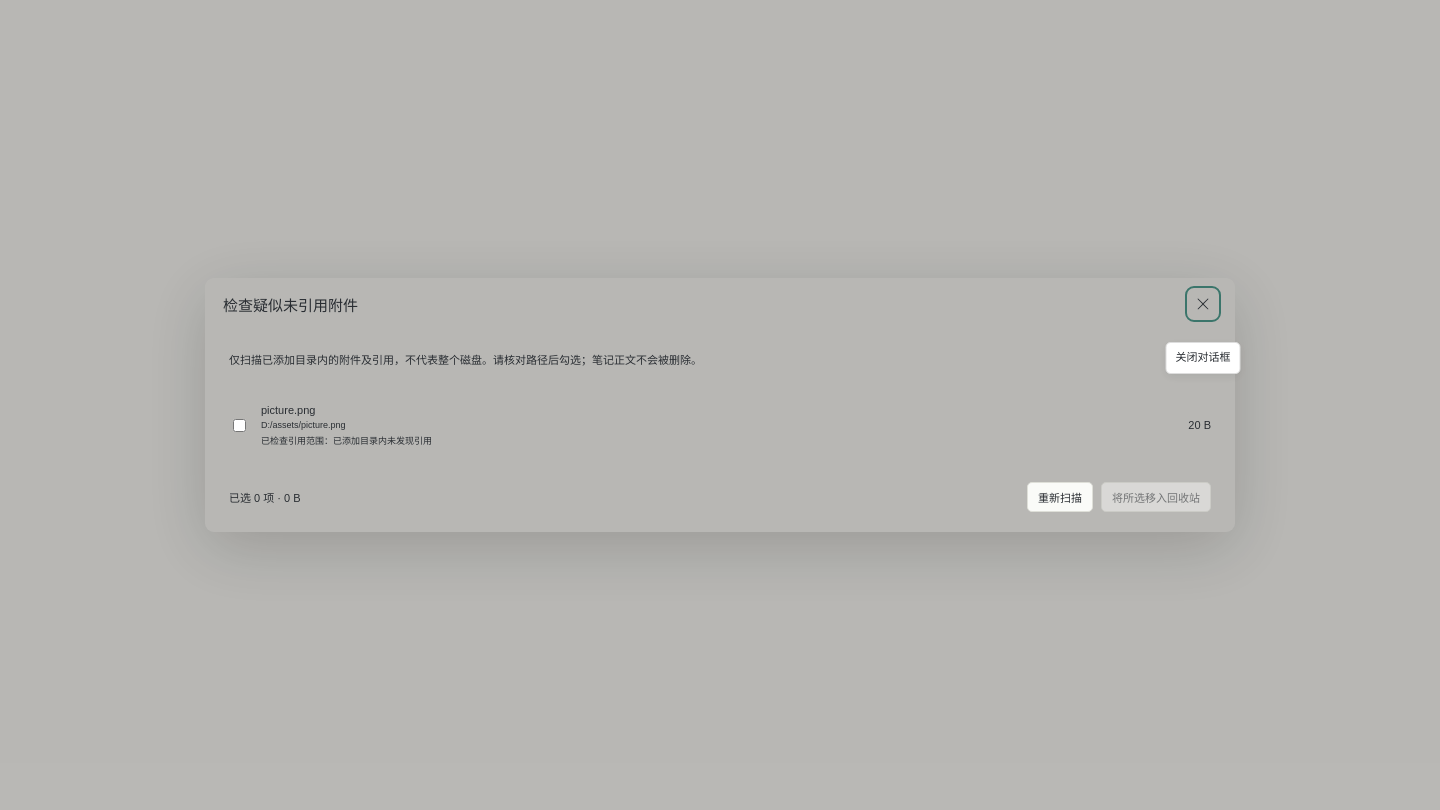
it: modal operations in progress › protects attachment removal from Escape and backdrop while the local removal is pending
Click the checkbox labelled "picture.png D:/assets/picture.png 已检查引用范围：已添加目录内未发现引用 20 B" at (240, 425), box top-left (233, 419), bottom-right (246, 432)
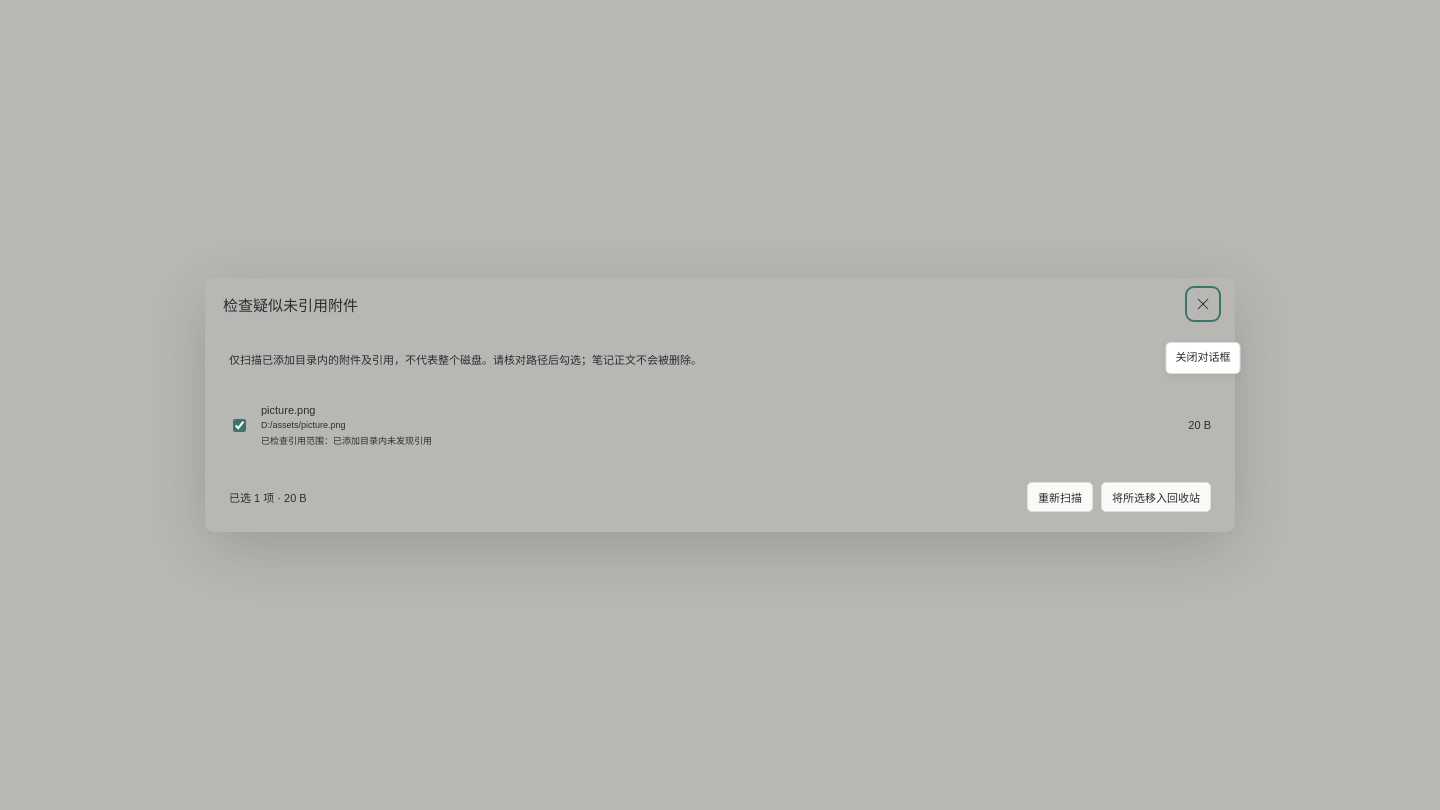
Click the button "将所选移入回收站" at (1156, 497), box top-left (1101, 482), bottom-right (1211, 512)
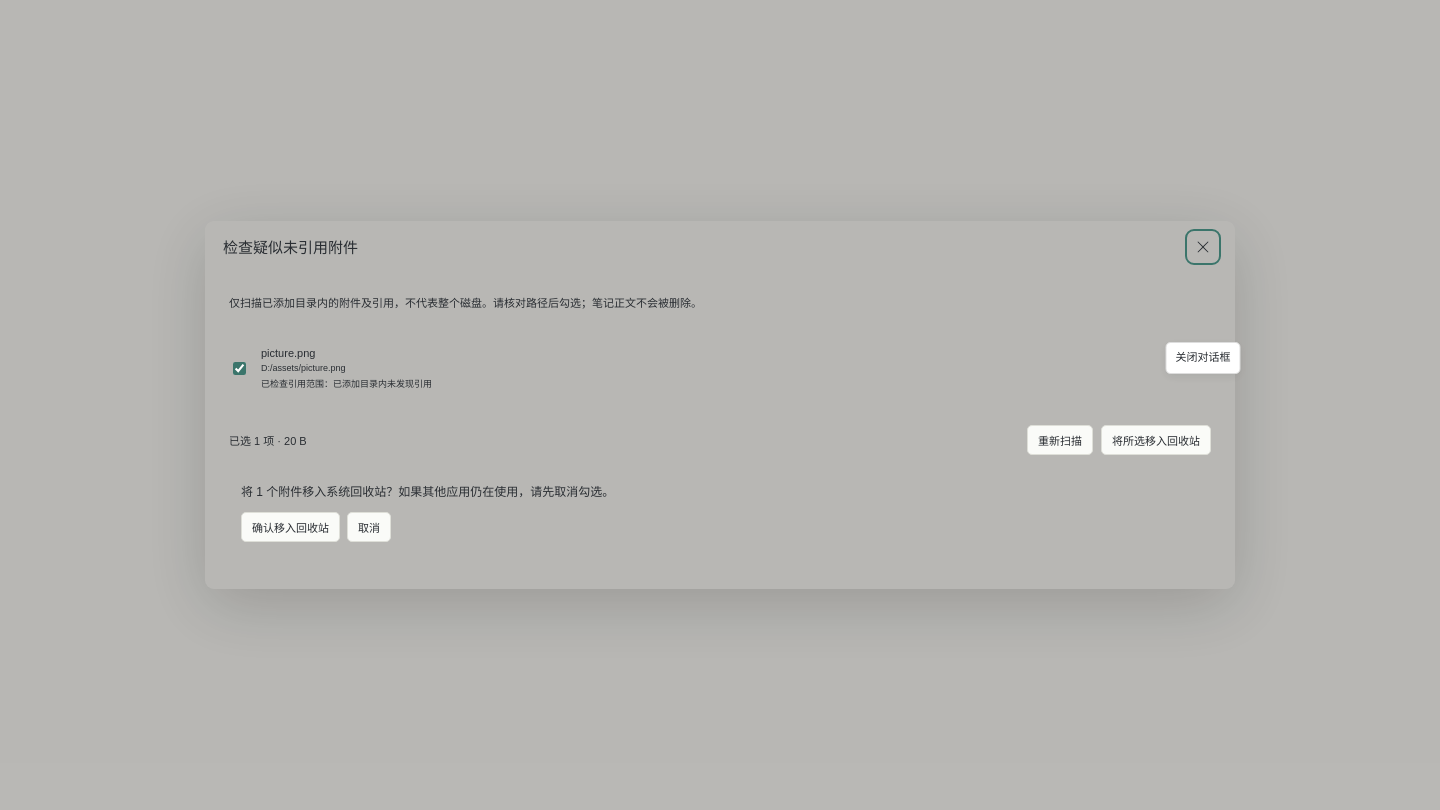
Click the button "确认移入回收站" at (290, 527), box top-left (241, 512), bottom-right (340, 542)
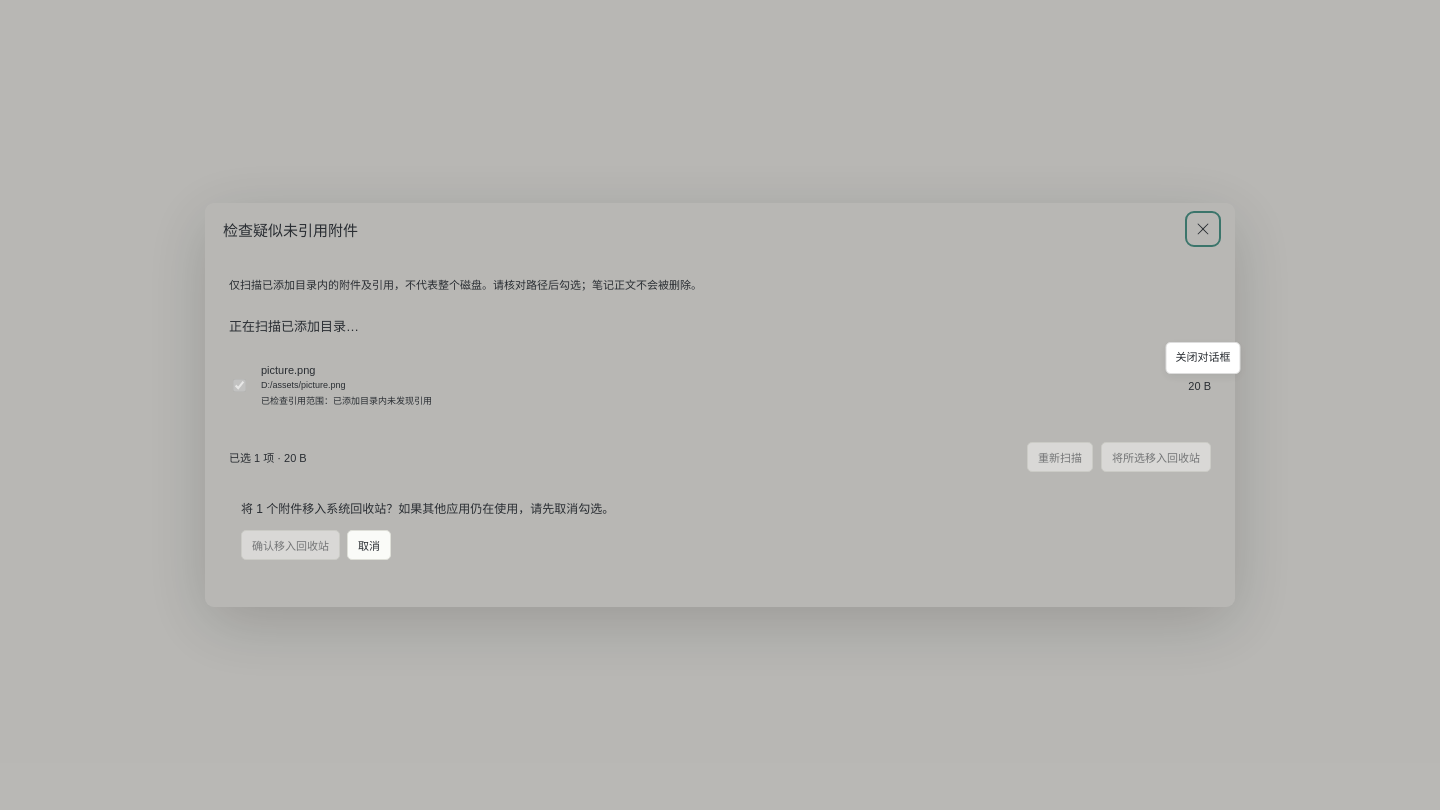
Click the dialog at (720, 405), box top-left (205, 203), bottom-right (1235, 607)
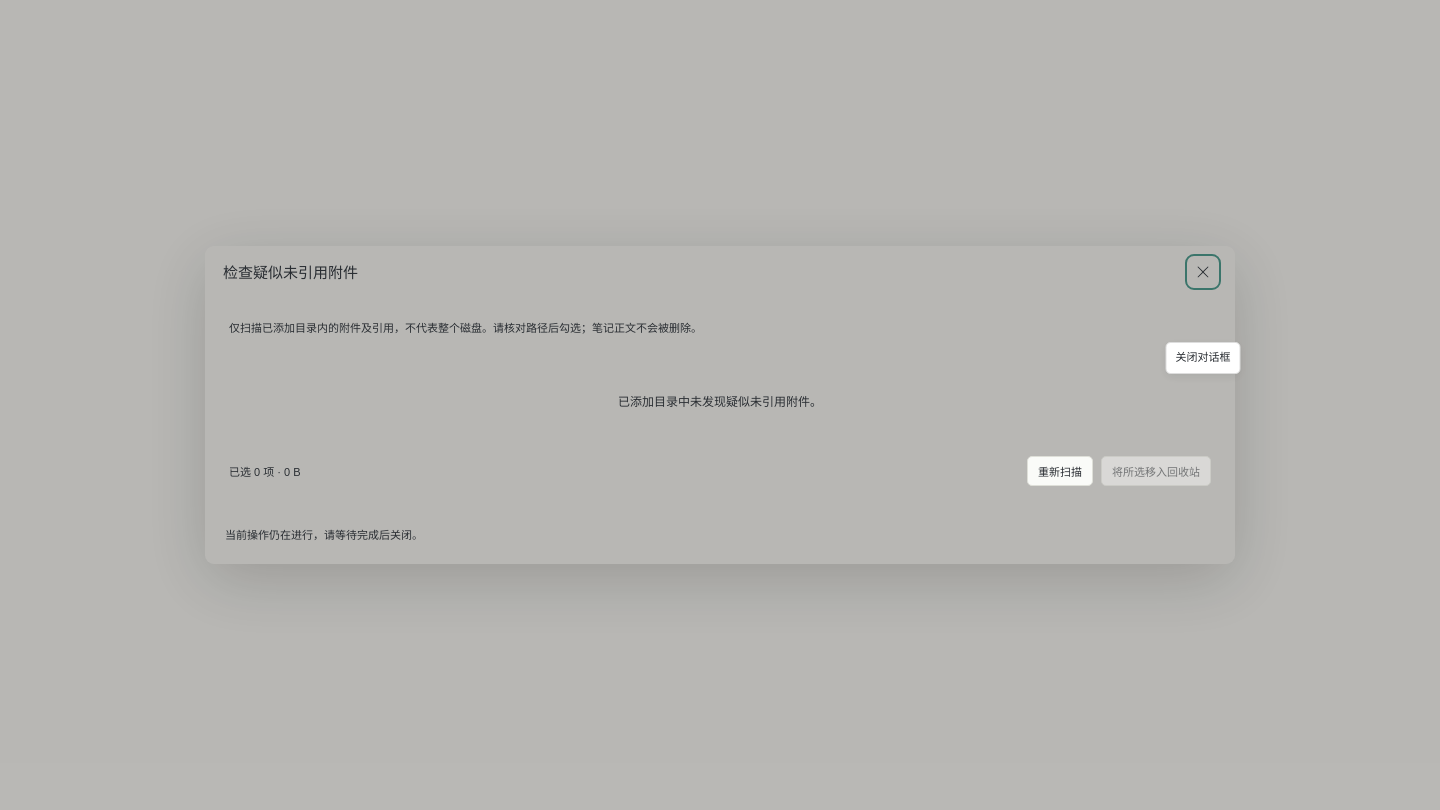
Expected: the text "请等待完成后关闭" is shown, top-left (225, 528), bottom-right (423, 540)
